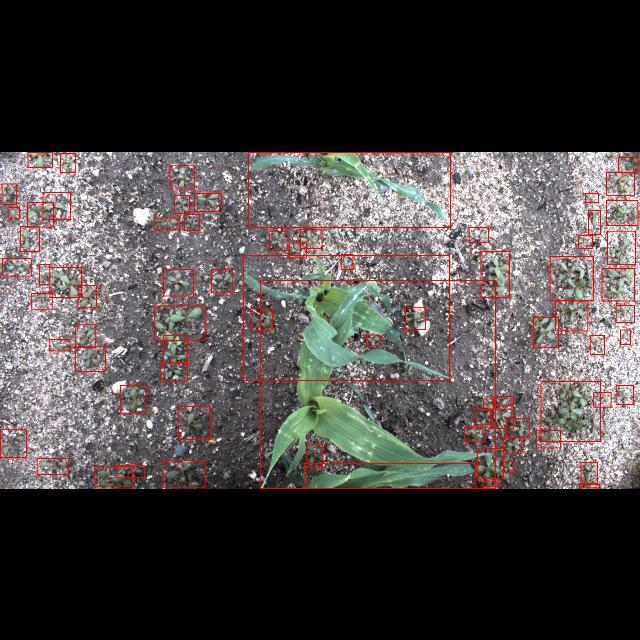crop: (260, 280, 496, 488), (243, 254, 449, 380), (248, 151, 450, 227), (304, 464, 476, 488)
weed: (541, 381, 601, 441), (550, 256, 592, 300), (155, 304, 205, 340), (480, 251, 510, 297), (163, 460, 205, 488), (178, 406, 210, 438), (602, 268, 634, 300), (554, 300, 588, 330), (606, 230, 636, 264), (50, 267, 82, 297), (163, 268, 193, 296), (76, 346, 106, 372), (477, 448, 503, 478), (606, 200, 638, 224), (95, 466, 133, 486), (120, 385, 146, 413), (43, 192, 71, 218), (0, 429, 26, 457), (534, 316, 558, 346), (163, 336, 187, 362), (27, 202, 53, 226), (606, 172, 634, 194), (160, 362, 188, 382), (170, 165, 194, 188), (2, 257, 32, 275), (194, 192, 222, 210), (20, 226, 40, 250), (38, 458, 68, 474), (506, 418, 530, 438), (77, 284, 96, 308), (212, 270, 232, 292), (252, 308, 272, 330), (76, 324, 96, 346), (300, 228, 322, 248), (405, 307, 425, 329), (491, 409, 514, 428), (537, 430, 561, 448), (268, 230, 288, 250), (580, 462, 598, 483), (616, 384, 634, 404), (307, 444, 323, 466), (464, 426, 486, 442), (116, 465, 144, 477), (30, 293, 51, 309), (28, 152, 52, 166), (616, 304, 634, 322), (60, 152, 76, 172), (469, 226, 489, 242), (618, 156, 638, 172), (154, 217, 180, 229), (2, 182, 16, 204), (174, 195, 190, 213), (588, 210, 600, 234), (502, 438, 522, 452), (590, 334, 604, 354), (474, 409, 491, 425), (184, 213, 200, 229), (290, 242, 306, 258), (50, 338, 70, 350), (594, 392, 610, 406), (39, 263, 50, 283), (578, 235, 592, 248), (495, 396, 513, 406), (341, 254, 353, 268), (366, 334, 380, 346), (8, 206, 20, 218), (620, 330, 630, 344), (586, 192, 598, 202), (484, 398, 494, 409), (504, 462, 514, 472), (579, 484, 599, 488), (482, 482, 500, 486)
